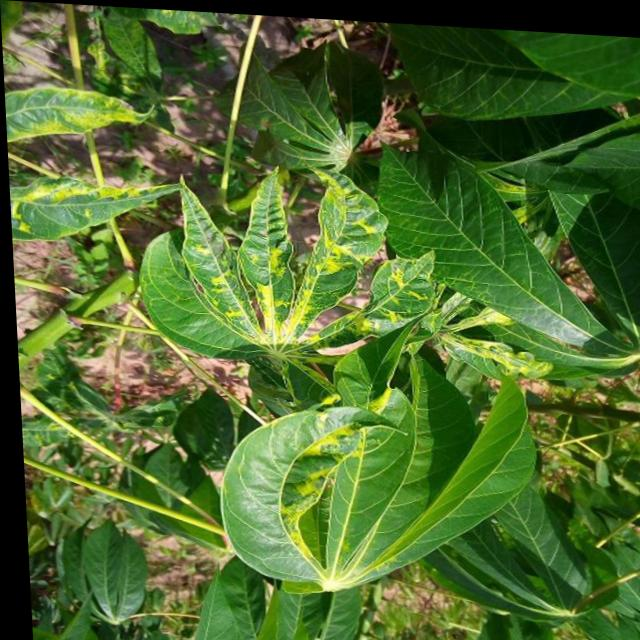Mosaico: (144, 171, 443, 352), (208, 364, 413, 590)
